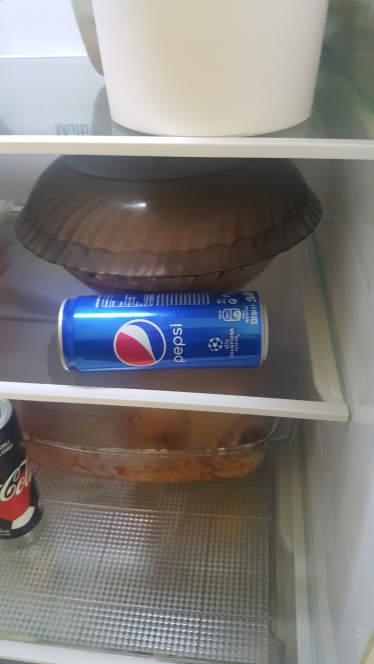colazero: (1, 378, 45, 550)
pepsi: (45, 272, 283, 390)
